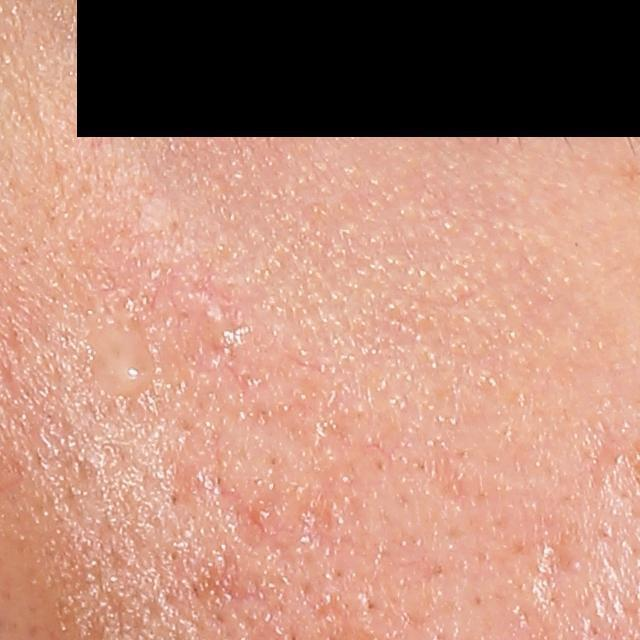other: (83, 313, 158, 399)
